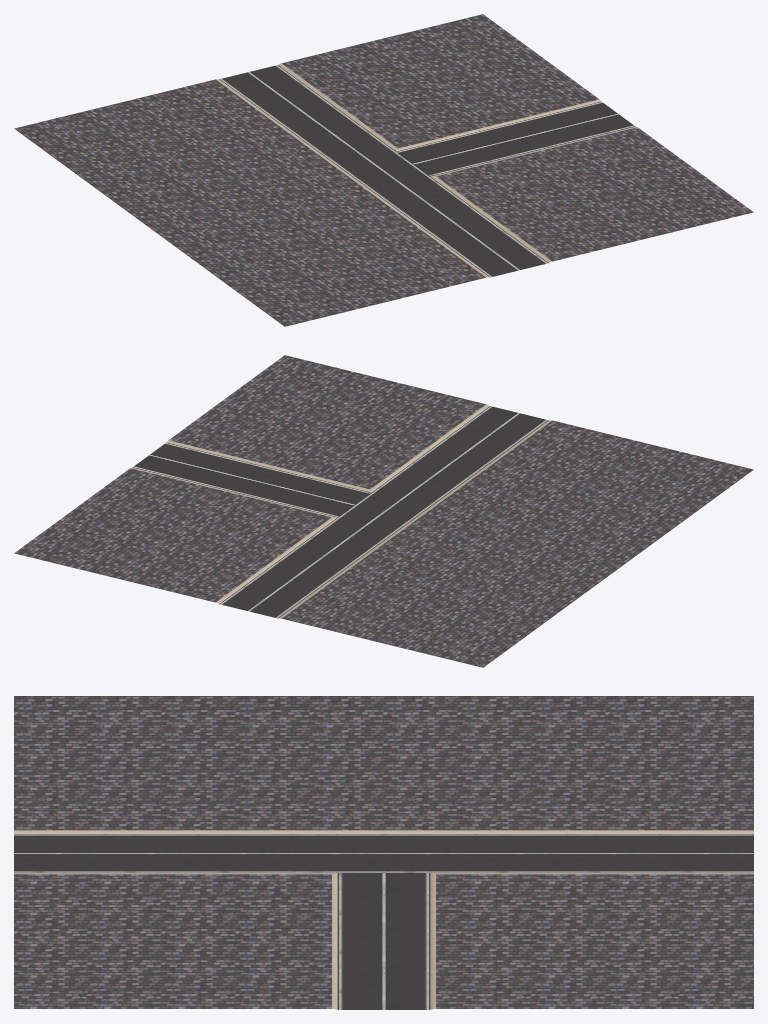
The model's file is RoadT_NEW.fbx.
The picture shows the model from 3 angles, top to bottom: view 1: azimuth 30°, elevation 25°; view 2: azimuth 150°, elevation 25°; view 3: azimuth 270°, elevation 25°; orthographic projection. The views are drawn at different scales.
Parts seen in each view (by area): view 1: RoadT_NEW; view 2: RoadT_NEW; view 3: RoadT_NEW.
Part boxes in pixels (<box>): RoadT_NEW: <box>14,14,753,326</box>; RoadT_NEW: <box>14,355,753,667</box>; RoadT_NEW: <box>14,696,753,1009</box>.
Size of the model in its own units: 6400 by 10 by 6400.
